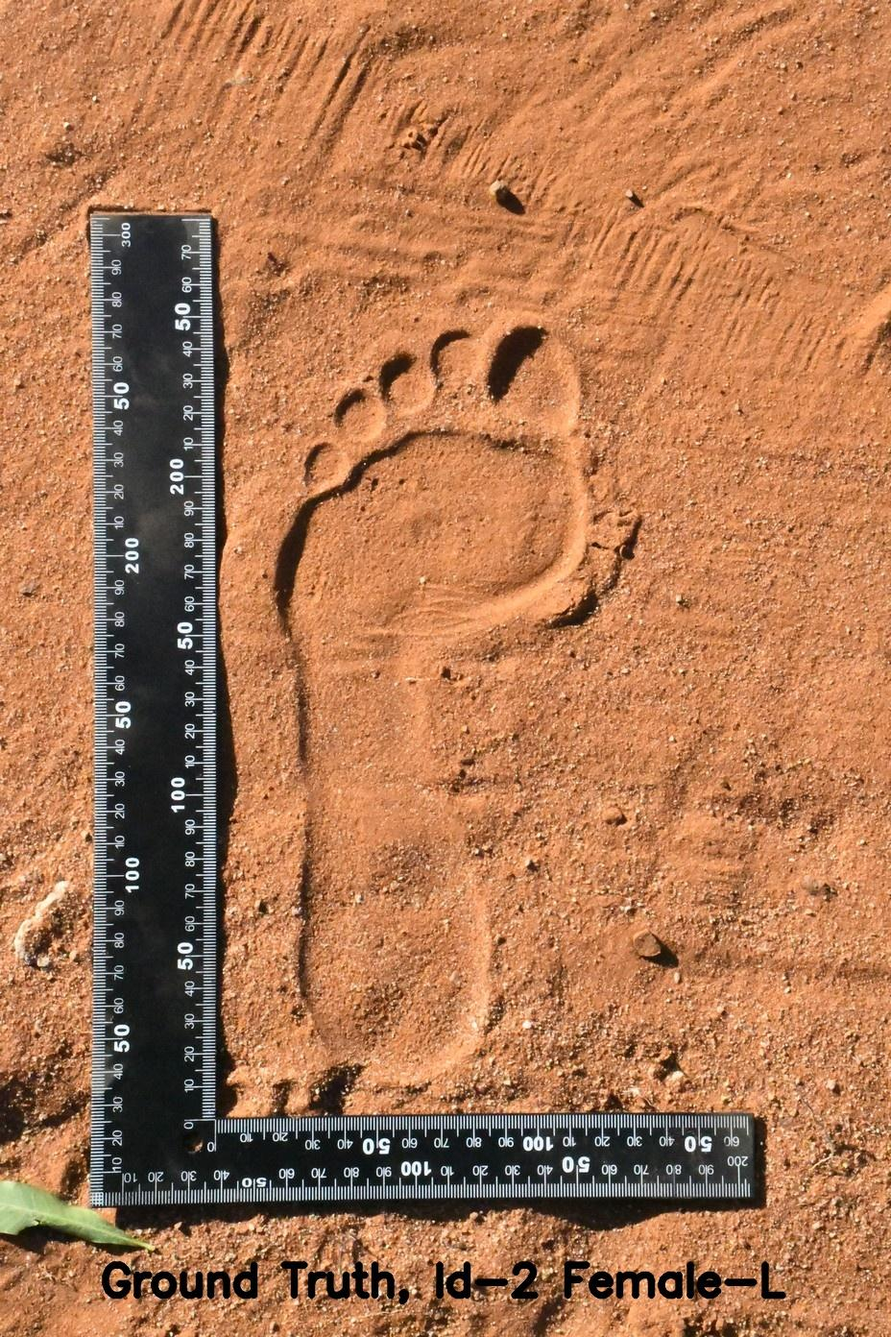human_footprint: (256, 241, 612, 1092)
